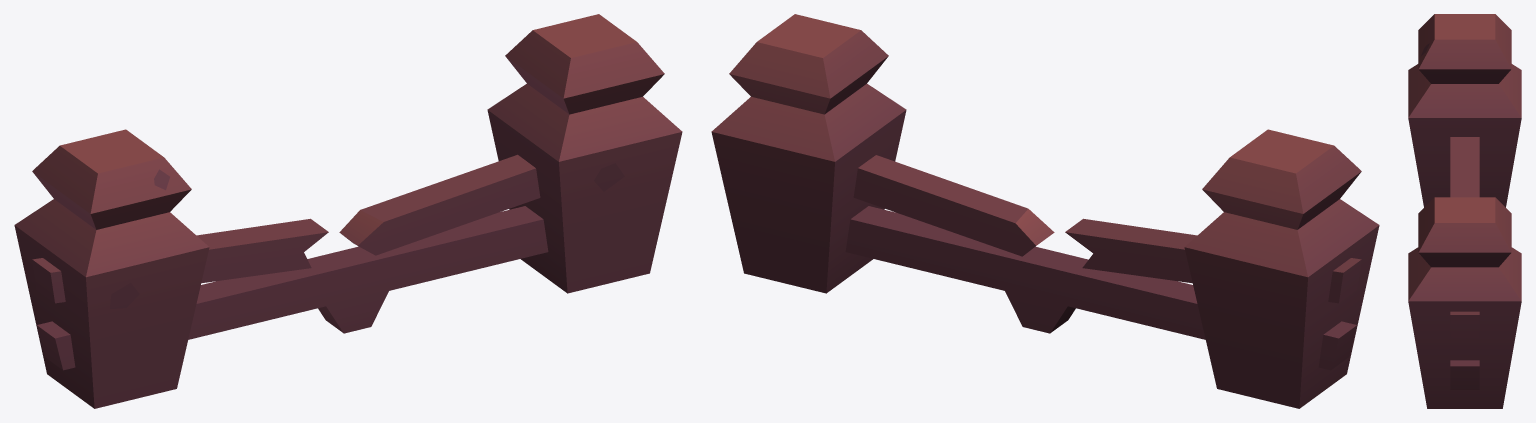
File: fence_2.glb
The picture shows the model from 3 angles, left to right: view 1: azimuth 30°, elevation 25°; view 2: azimuth 150°, elevation 25°; view 3: azimuth 270°, elevation 25°; orthographic projection. The views are drawn at different scales.
Parts seen in each view (by area): view 1: fence_2; view 2: fence_2; view 3: fence_2.
Boxes of the visible parts, box(x1,y1,x2,y2) form: fence_2: box(14, 14, 682, 408); fence_2: box(711, 14, 1379, 408); fence_2: box(1408, 14, 1521, 408).
Bounding box in the file's own units: 2.46 × 0.8794 × 0.4949.
1 material, 1 textured.
